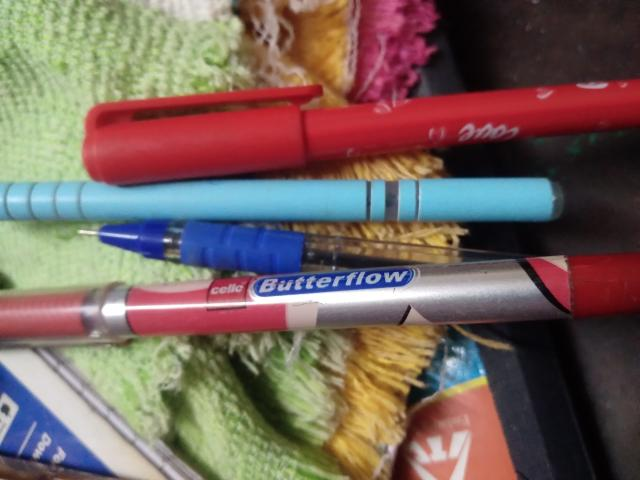PEN: (115, 11, 260, 480), (297, 80, 448, 480), (244, 0, 331, 480)
